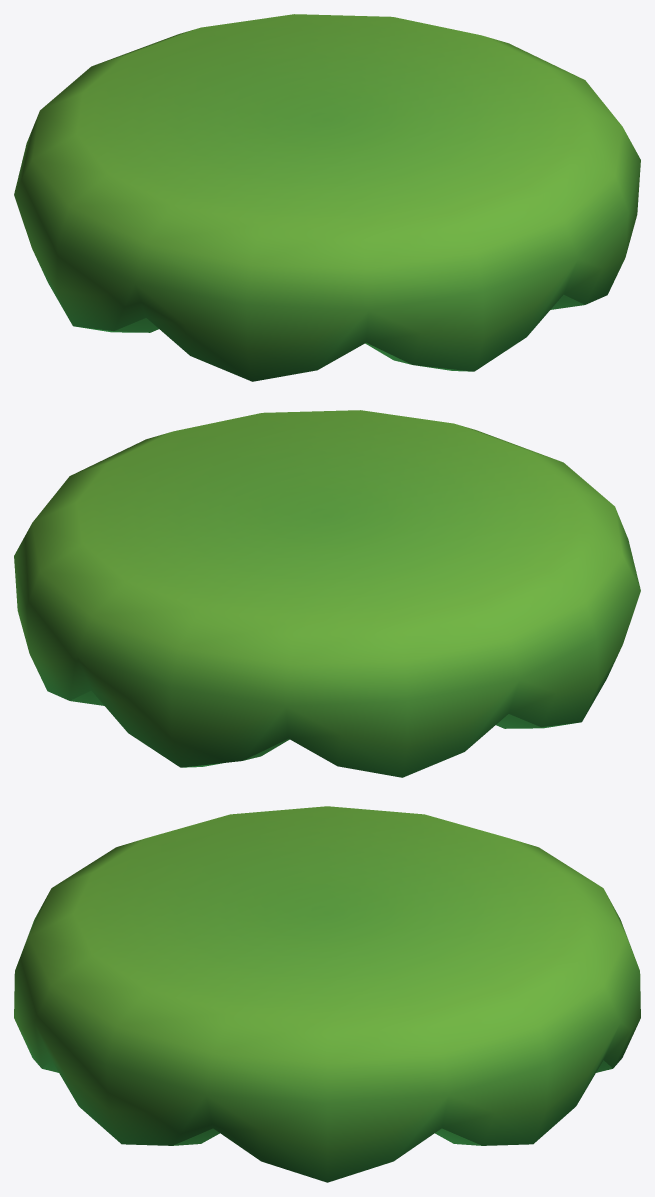
The model's file is Hill_Top_E_Cap_Color1.gltf.
3 views of the same model, one above another, from view 1: azimuth 30°, elevation 25°; view 2: azimuth 150°, elevation 25°; view 3: azimuth 270°, elevation 25° (orthographic).
Visible parts, largest first — view 1: Hill_Top_E_Cap_Color1; view 2: Hill_Top_E_Cap_Color1; view 3: Hill_Top_E_Cap_Color1.
Boxes of the visible parts, box(x1,y1,x2,y2) form: Hill_Top_E_Cap_Color1: box(14, 14, 640, 381); Hill_Top_E_Cap_Color1: box(14, 410, 640, 777); Hill_Top_E_Cap_Color1: box(14, 806, 640, 1182).
Bounding box in the file's own units: 2.47 × 0.6959 × 2.47.
1 material, 1 textured.
